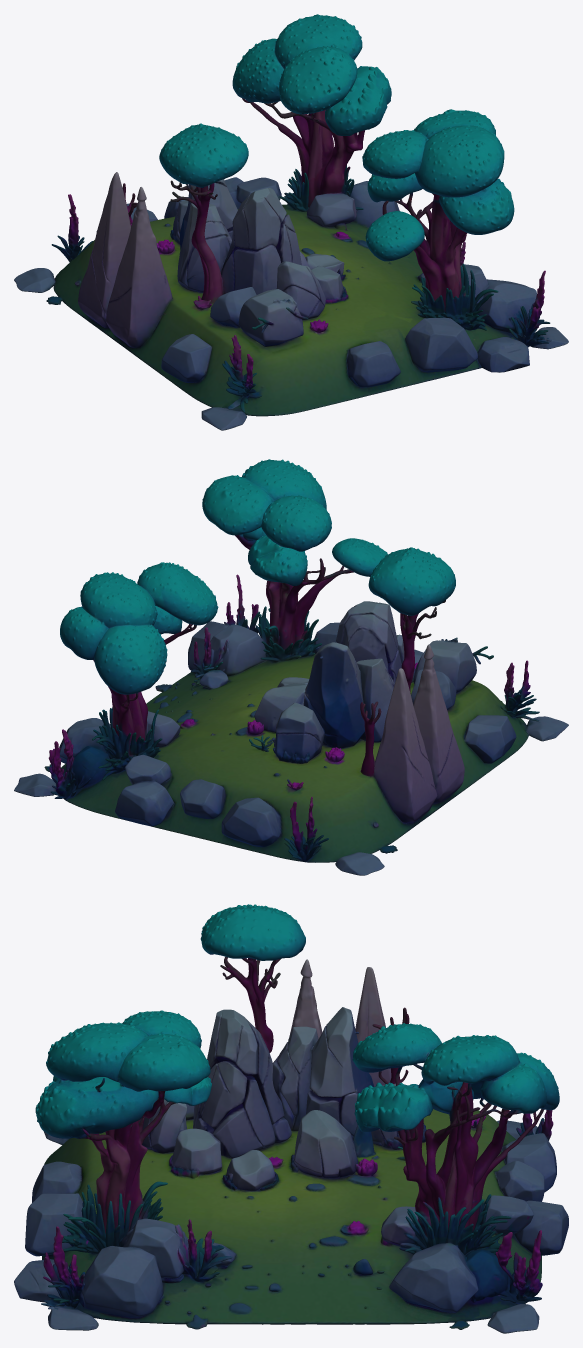
The model's file is cenario_3d_floresta.draco.glb.
3 views of the same model, one above another, from view 1: azimuth 30°, elevation 25°; view 2: azimuth 150°, elevation 25°; view 3: azimuth 270°, elevation 25° (orthographic). The views are drawn at different scales.
Visible parts, largest first — view 1: tripo_node_031ee807-aa10-412d-9965-24e0fb898c5f; view 2: tripo_node_031ee807-aa10-412d-9965-24e0fb898c5f; view 3: tripo_node_031ee807-aa10-412d-9965-24e0fb898c5f.
Part boxes in pixels (left/top/right/bottom): tripo_node_031ee807-aa10-412d-9965-24e0fb898c5f: left=14, top=14, right=568, bottom=430; tripo_node_031ee807-aa10-412d-9965-24e0fb898c5f: left=14, top=459, right=568, bottom=875; tripo_node_031ee807-aa10-412d-9965-24e0fb898c5f: left=14, top=904, right=568, bottom=1333.
Size of the model in its own units: 0.9042 by 0.5222 by 1.
Materials: 1 (1 with a texture image).
